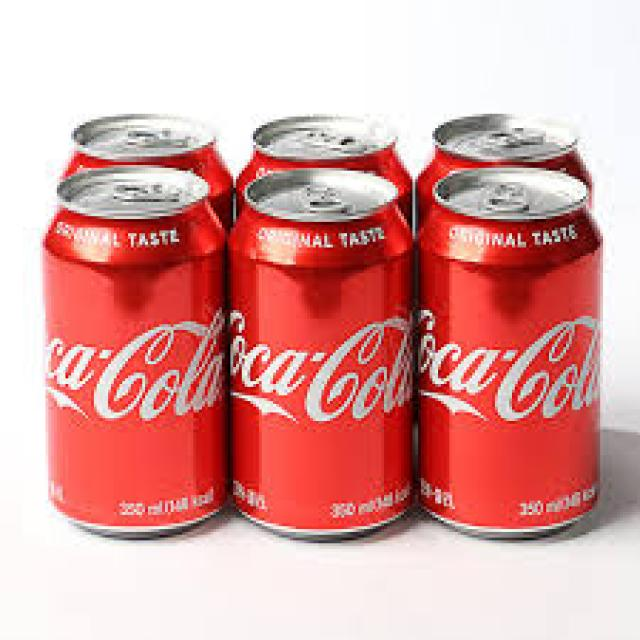Coca-Cola: (233, 166, 420, 543), (422, 167, 608, 545), (37, 182, 229, 548), (416, 118, 604, 485), (238, 100, 415, 474), (53, 115, 235, 477)
